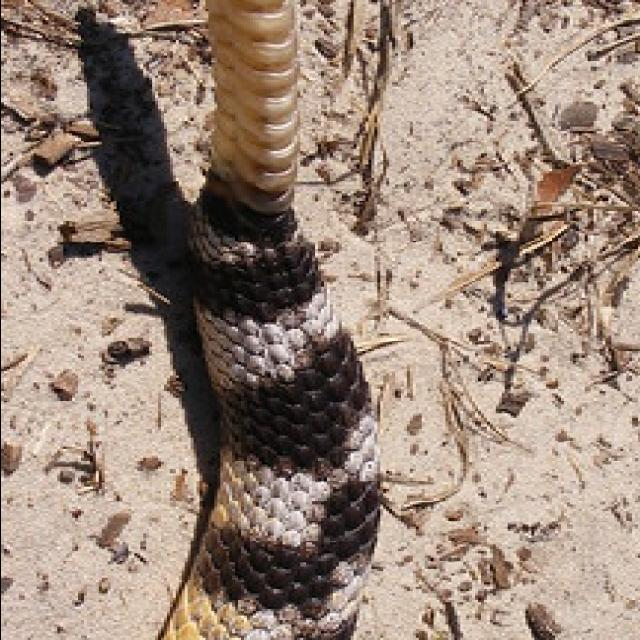Snake: (116, 0, 632, 640)
